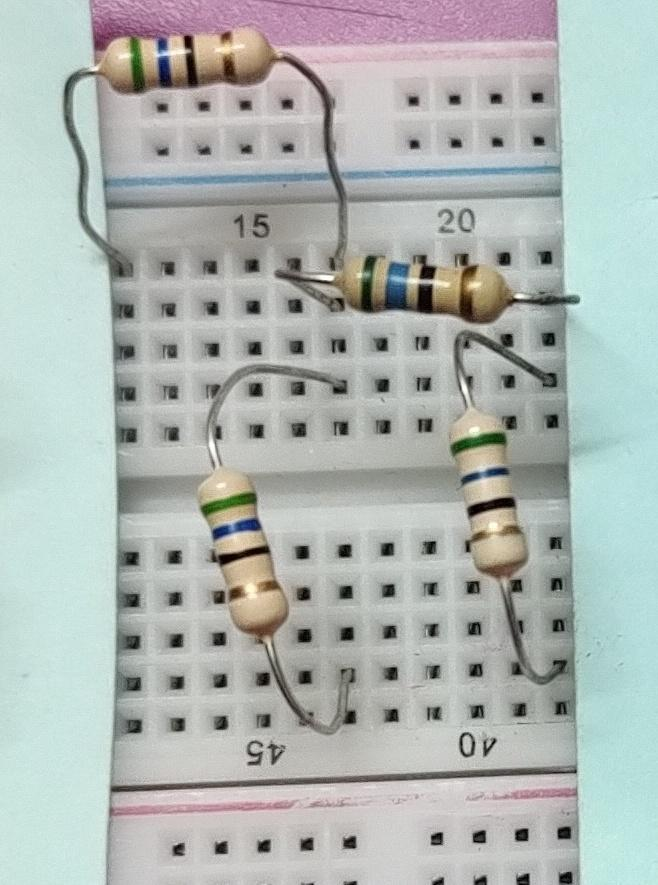resistor: (180, 457, 305, 658), (445, 390, 546, 615), (315, 247, 527, 340), (92, 20, 302, 103)
